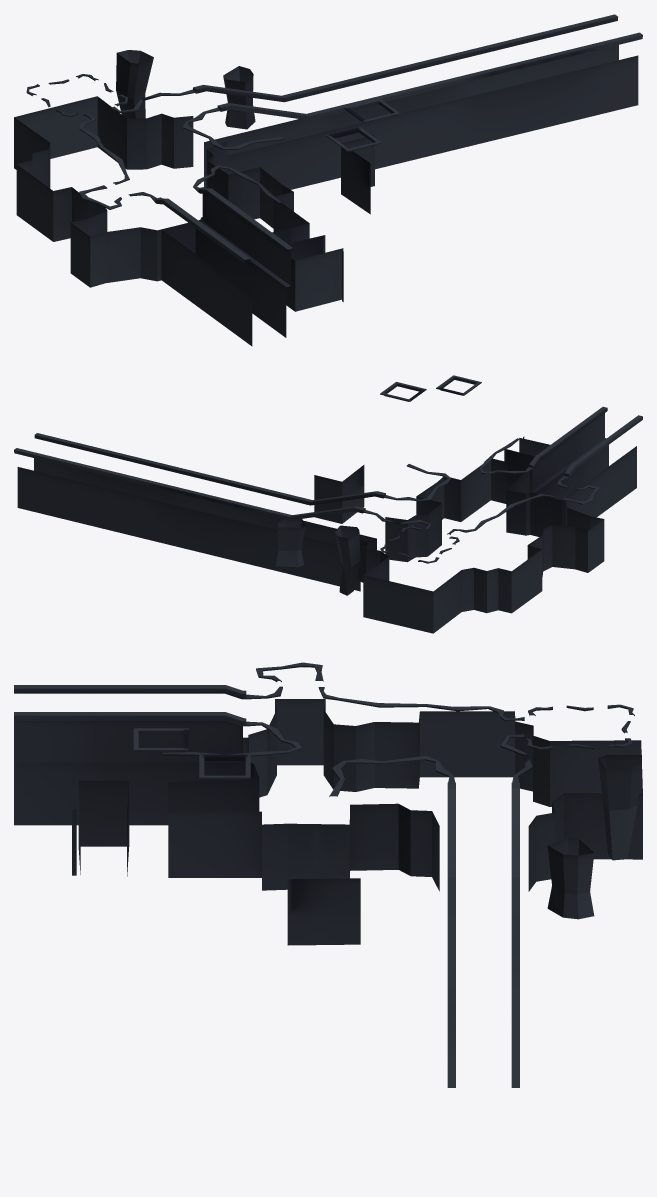
The model's file is Ground_04.FBX.
3 renders of one model, top to bottom at view 1: azimuth 30°, elevation 25°; view 2: azimuth 150°, elevation 25°; view 3: azimuth 270°, elevation 25°, orthographic. The views are drawn at different scales.
Visible parts, largest first — view 1: Ground_04; view 2: Ground_04; view 3: Ground_04.
Part boxes in pixels (x1,y1,x2,y2): Ground_04: [14, 14, 642, 346]; Ground_04: [14, 375, 642, 633]; Ground_04: [14, 662, 642, 1087].
Bounding box in the file's own units: 65.77 × 14.97 × 44.68.
